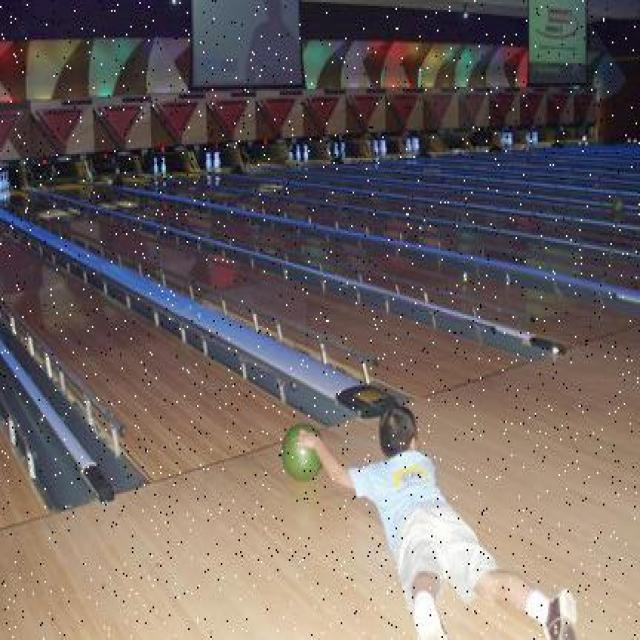fall: (314, 399, 578, 638)
